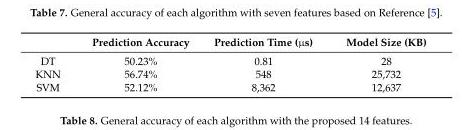table: (34, 35, 425, 93)
table column: (200, 35, 328, 93), (75, 35, 200, 93), (328, 35, 425, 93), (34, 35, 75, 93)
table column header: (34, 35, 425, 51)
table row: (34, 35, 425, 51), (34, 51, 425, 67), (34, 67, 425, 80), (34, 80, 425, 93)
